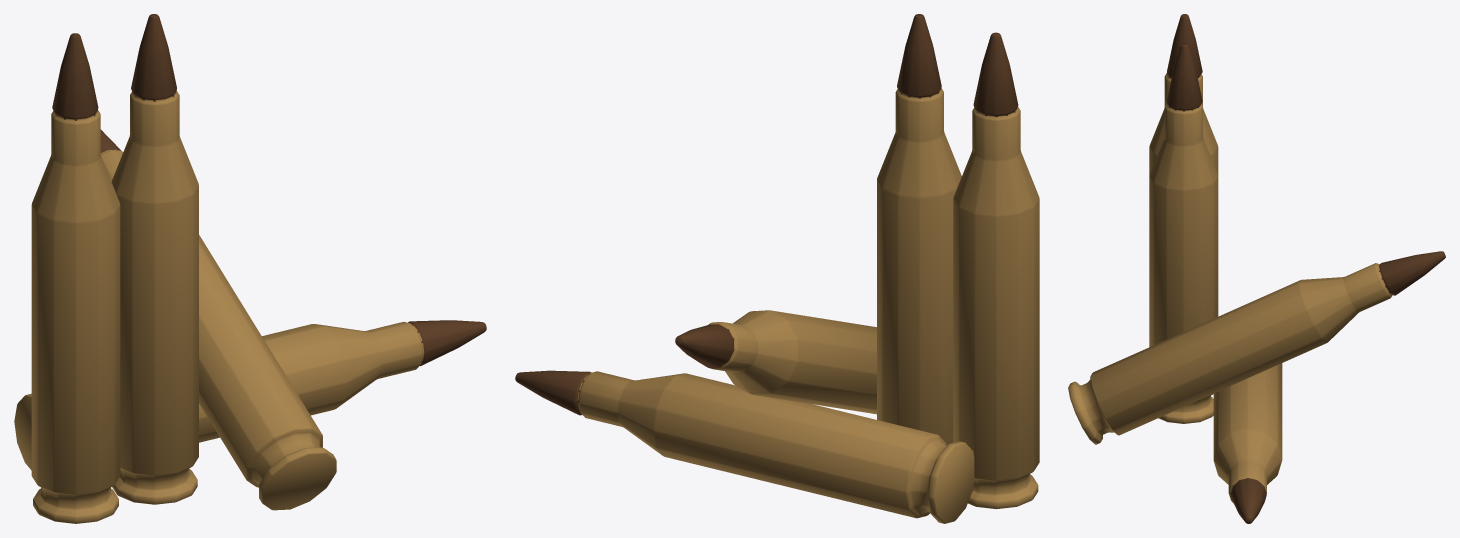
The model's file is Ammo.fbx.
3 views of the same model, side by side, from view 1: azimuth 30°, elevation 25°; view 2: azimuth 150°, elevation 25°; view 3: azimuth 270°, elevation 25° (orthographic). The views are drawn at different scales.
Visible parts, largest first — view 1: Cylinder.001; view 2: Cylinder.001; view 3: Cylinder.001.
Boxes of the visible parts, <box> form: Cylinder.001: <box>14,14,486,523</box>; Cylinder.001: <box>515,14,1039,523</box>; Cylinder.001: <box>1068,14,1445,523</box>.
Bounding box in the file's own units: 171 × 158 × 148.
